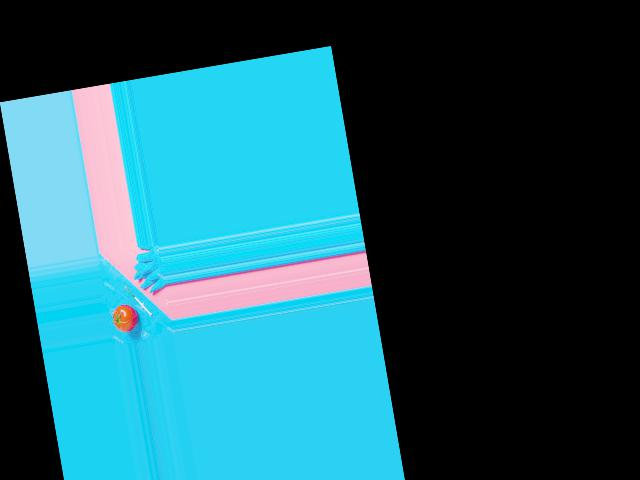tomato: (111, 302, 140, 332)
